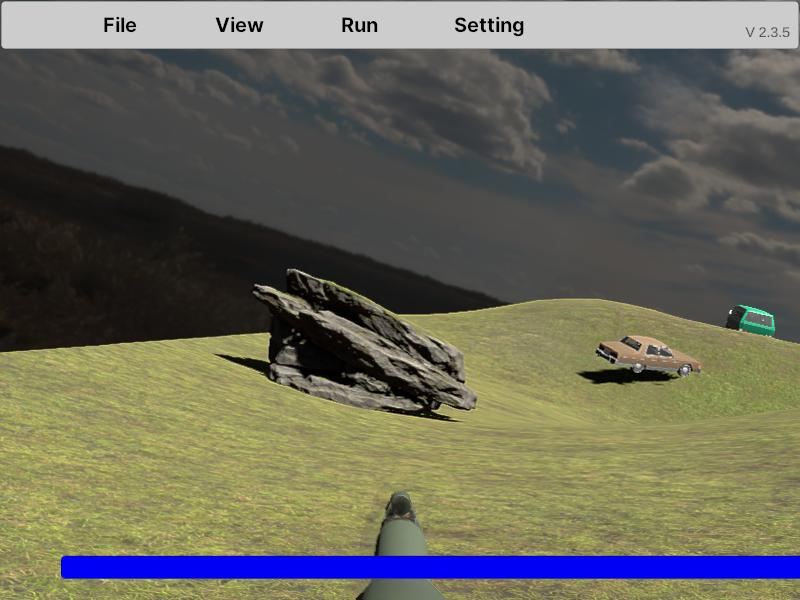car: (596, 335, 702, 379)
